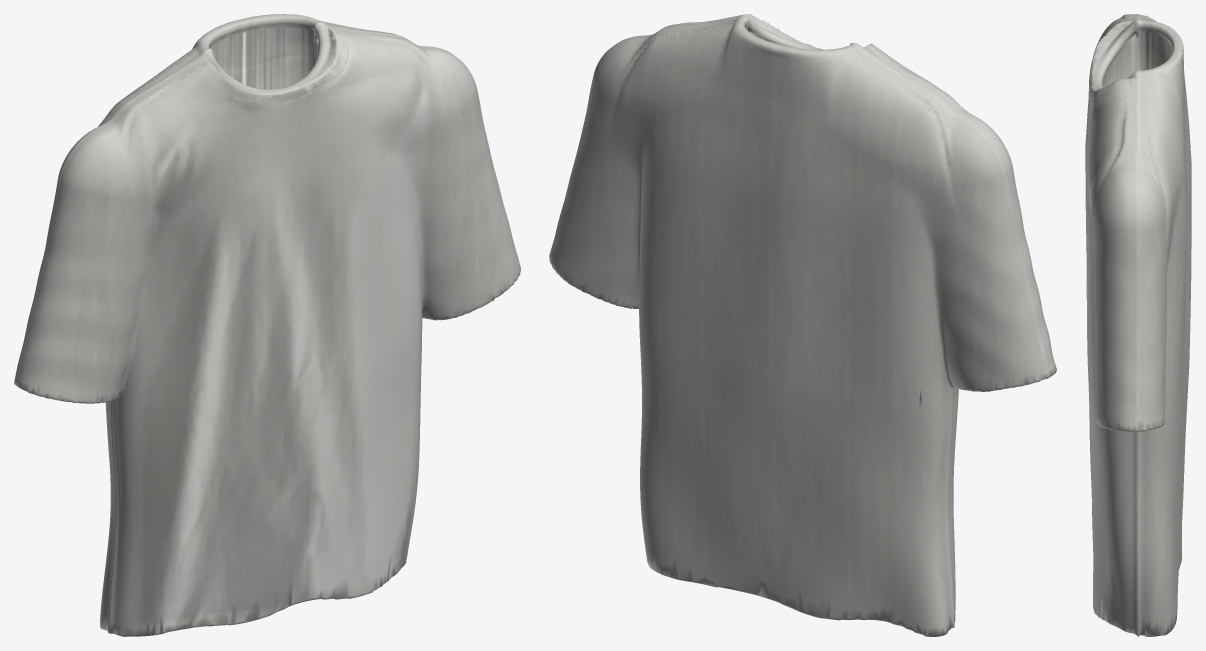
3 renders of one model, left to right at view 1: azimuth 30°, elevation 25°; view 2: azimuth 150°, elevation 25°; view 3: azimuth 270°, elevation 25°, orthographic. The views are drawn at different scales.
Visible parts, largest first — view 1: TT08-W03; view 2: TT08-W03; view 3: TT08-W03.
Part boxes in pixels (x1=…): TT08-W03: x1=14, y1=14, x2=520, y2=636; TT08-W03: x1=549, y1=14, x2=1056, y2=636; TT08-W03: x1=1085, y1=14, x2=1191, y2=636.
Bounding box in the file's own units: 0.9304 × 1 × 0.1815.
1 material, 1 textured.
